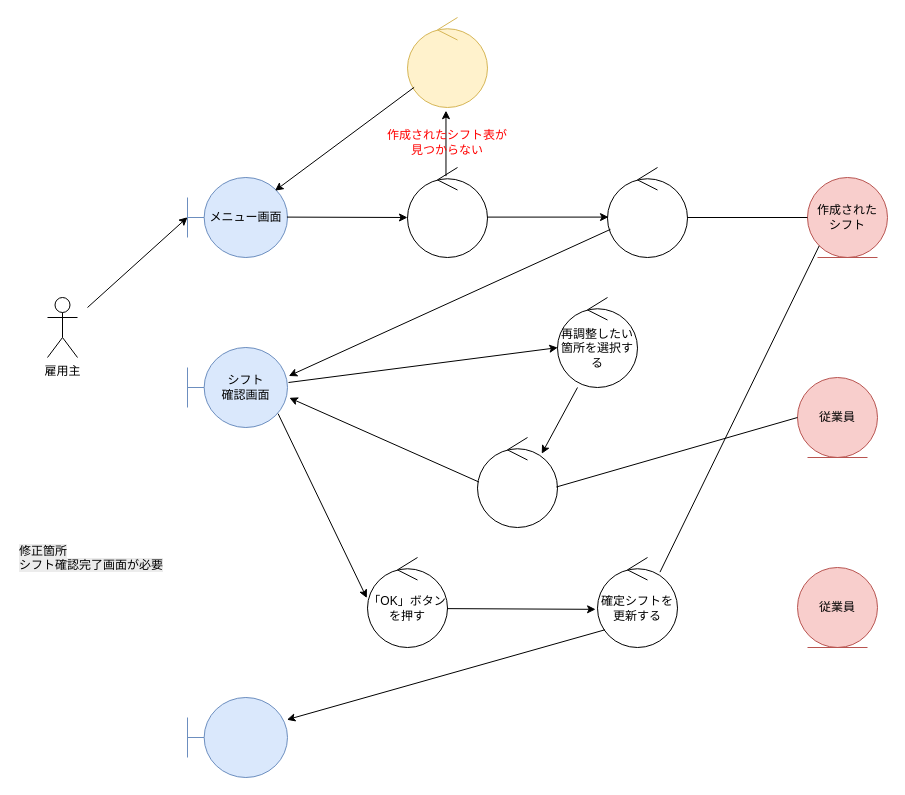
Some shapes in this 905 by 795 pixel diagram are drawn without their labels. Each missing label, with the centre of its shape:
「シフト作成結果を確認する」ボタンを押す: the point at 447,212
シフトエラー: the point at 447,62
シフト確認 完了画面: the point at 237,737
作成された シフト表を 表示する: the point at 647,212
表示されたプルダウンで担当者を選択する: the point at 517,482
